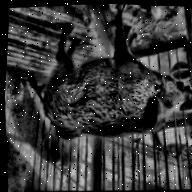boar: (18, 1, 192, 150)
